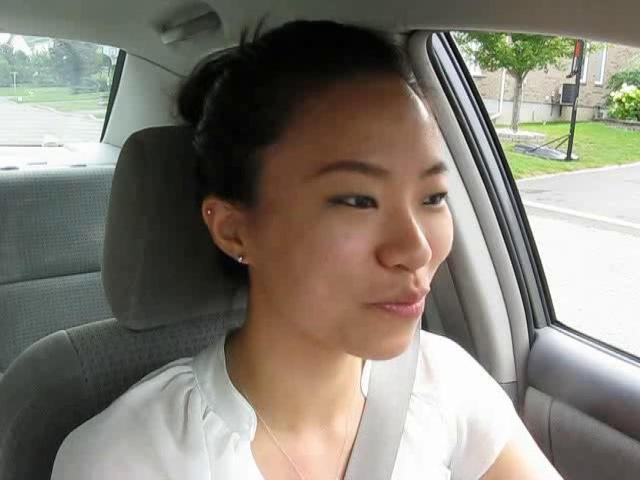eye_open: (322, 185, 387, 222), (417, 185, 454, 216)
face: (271, 140, 462, 363)
